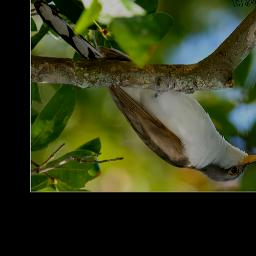Cuckoo: (30, 0, 256, 184)
